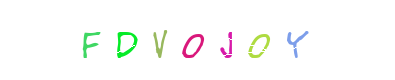0: (157, 0, 237, 80), (176, 0, 256, 80)
D: (85, 0, 165, 80)
F: (57, 0, 137, 80)
J: (165, 0, 245, 80)
V: (134, 0, 214, 80)
Y: (255, 0, 335, 80)
